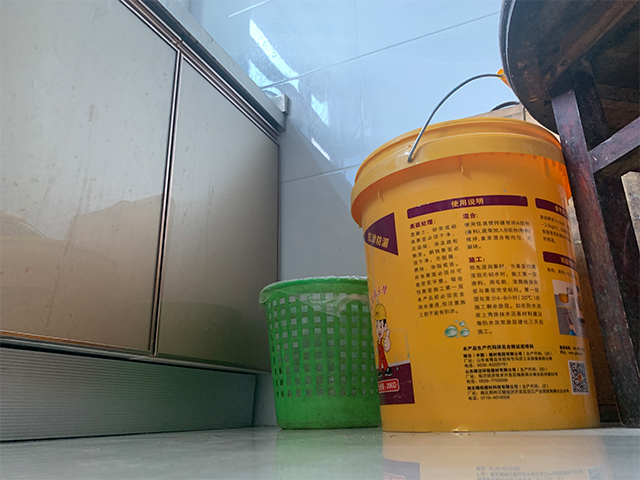cabinet: (1, 1, 290, 442)
trashcan: (257, 275, 382, 431)
